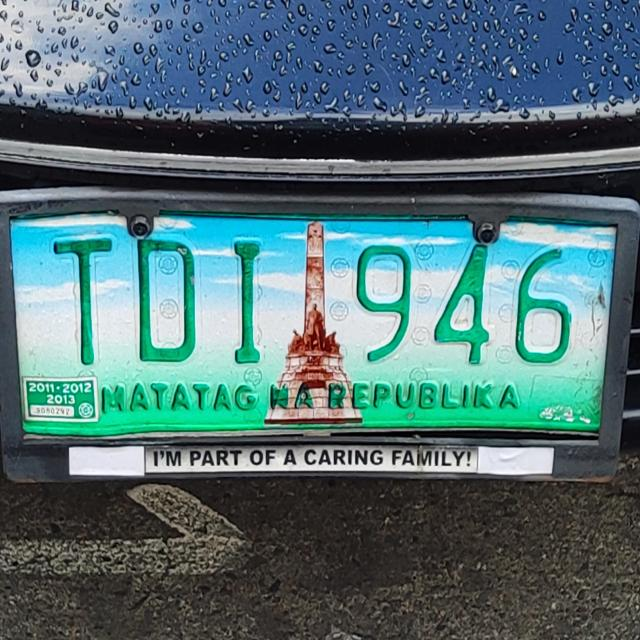plate: (7, 183, 630, 492)
